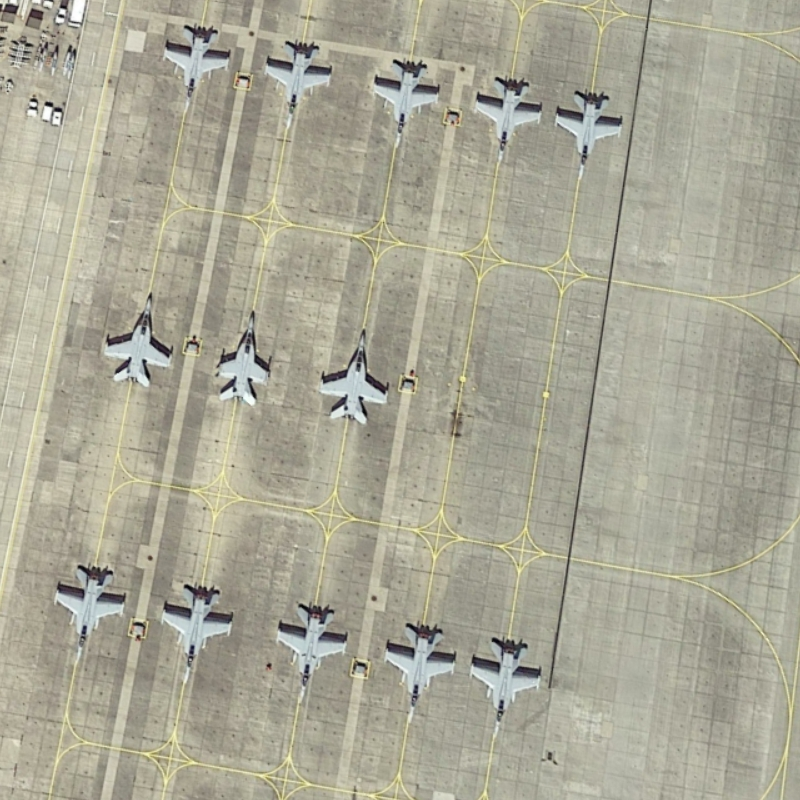A16: (269, 597, 353, 711), (157, 578, 238, 689), (379, 616, 459, 728), (311, 322, 396, 426), (49, 560, 130, 669), (466, 633, 550, 738), (363, 51, 446, 154), (99, 285, 177, 391), (465, 70, 546, 170), (262, 33, 337, 139), (156, 16, 237, 113), (549, 83, 629, 180), (209, 305, 274, 411)
